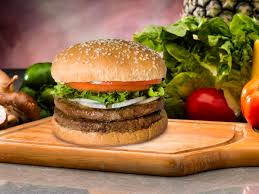hamburger: (50, 39, 169, 144)
